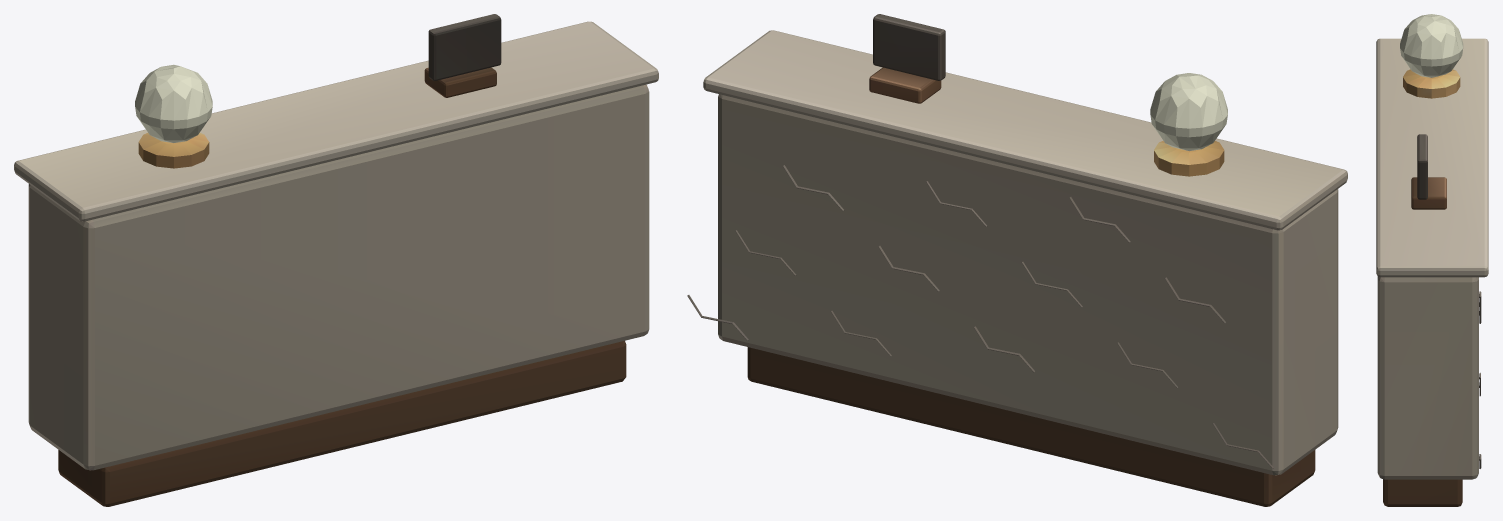
Rendered from desk.glb.
The picture shows the model from 3 angles, left to right: view 1: azimuth 30°, elevation 25°; view 2: azimuth 150°, elevation 25°; view 3: azimuth 270°, elevation 25°; orthographic projection. The views are drawn at different scales.
Visible parts, largest first — view 1: Surface; view 2: Surface; view 3: Surface.
Boxes of the visible parts, x1,y1,x2,y2 form: Surface: [14, 14, 658, 506]; Surface: [687, 14, 1347, 506]; Surface: [1376, 14, 1488, 506].
Bounding box in the file's own units: 2.06 × 1.3 × 0.41.
